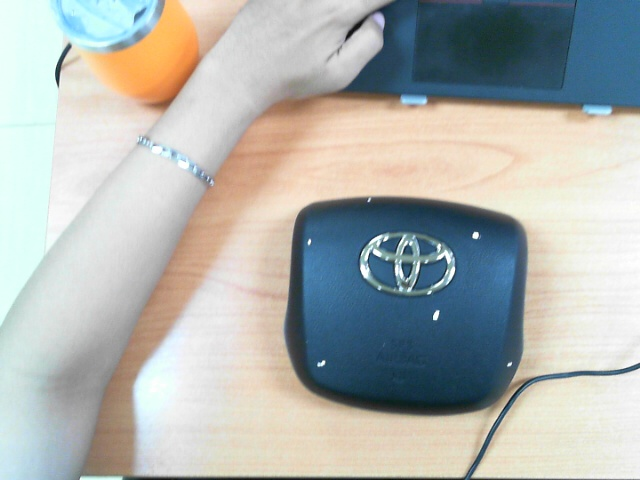Airbag: (432, 309, 440, 321), (316, 360, 327, 368), (471, 231, 480, 240), (307, 238, 312, 248), (506, 361, 513, 368), (366, 197, 372, 203)
